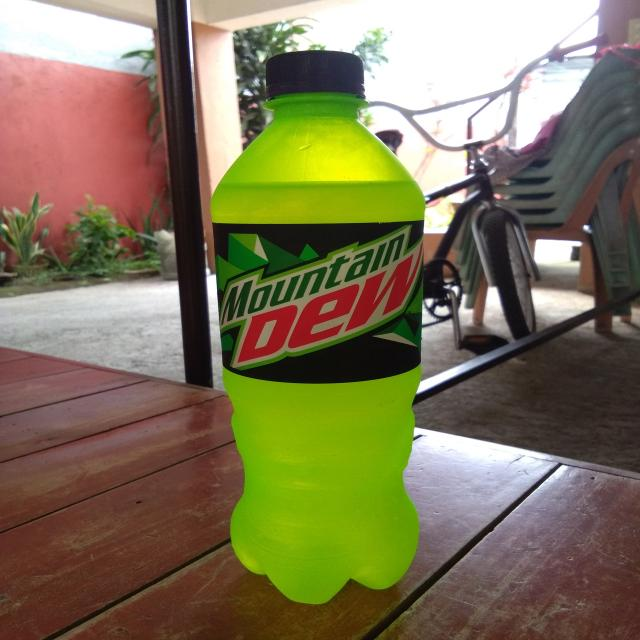Soda: (209, 52, 426, 607)
